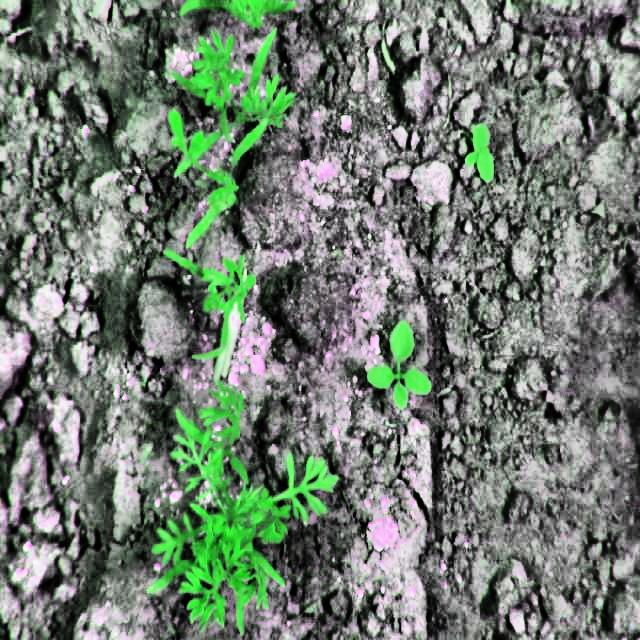Weeds: (364, 315, 436, 411), (463, 116, 498, 182)
undefined: (145, 384, 339, 638), (159, 0, 301, 252), (163, 239, 266, 385)
